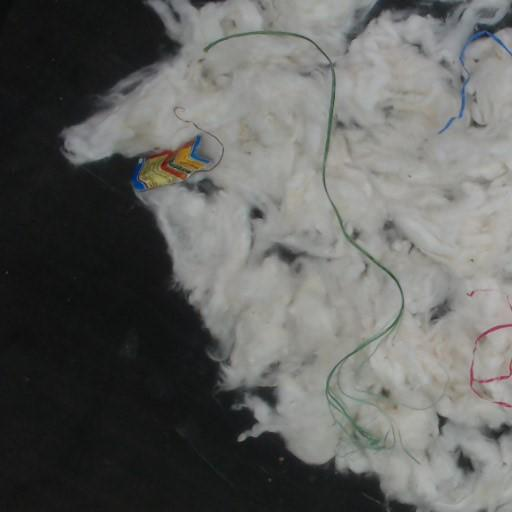conveyor belt: (365, 0, 452, 23), (489, 12, 511, 29)
cotton: (61, 0, 511, 511)
packet: (132, 135, 218, 192)
thread: (202, 30, 403, 448), (438, 30, 511, 134), (469, 323, 511, 408), (174, 106, 224, 173)
